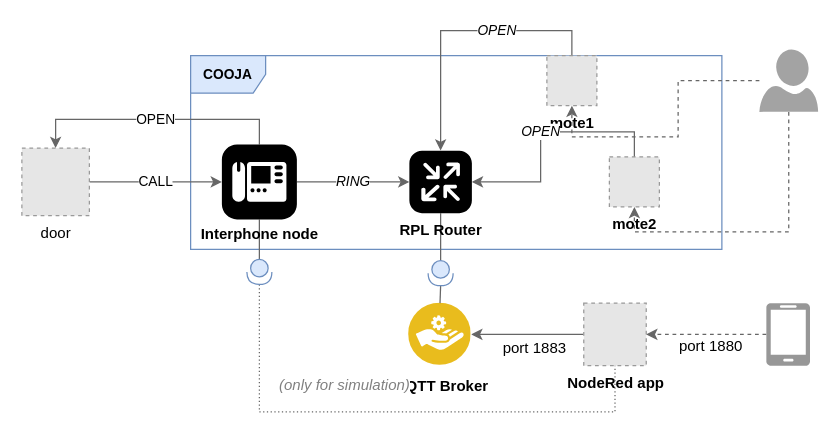
This 840x435 diagram has some shape labels left out. Grey dashed boxes stand in for pictures. Here are the shapes that lost their labels. From the top down, the box of each, then its label:
(759, 49, 818, 111): user
(246, 258, 272, 284): port 6002
(427, 259, 453, 286): port 6001
(766, 302, 809, 365): client
